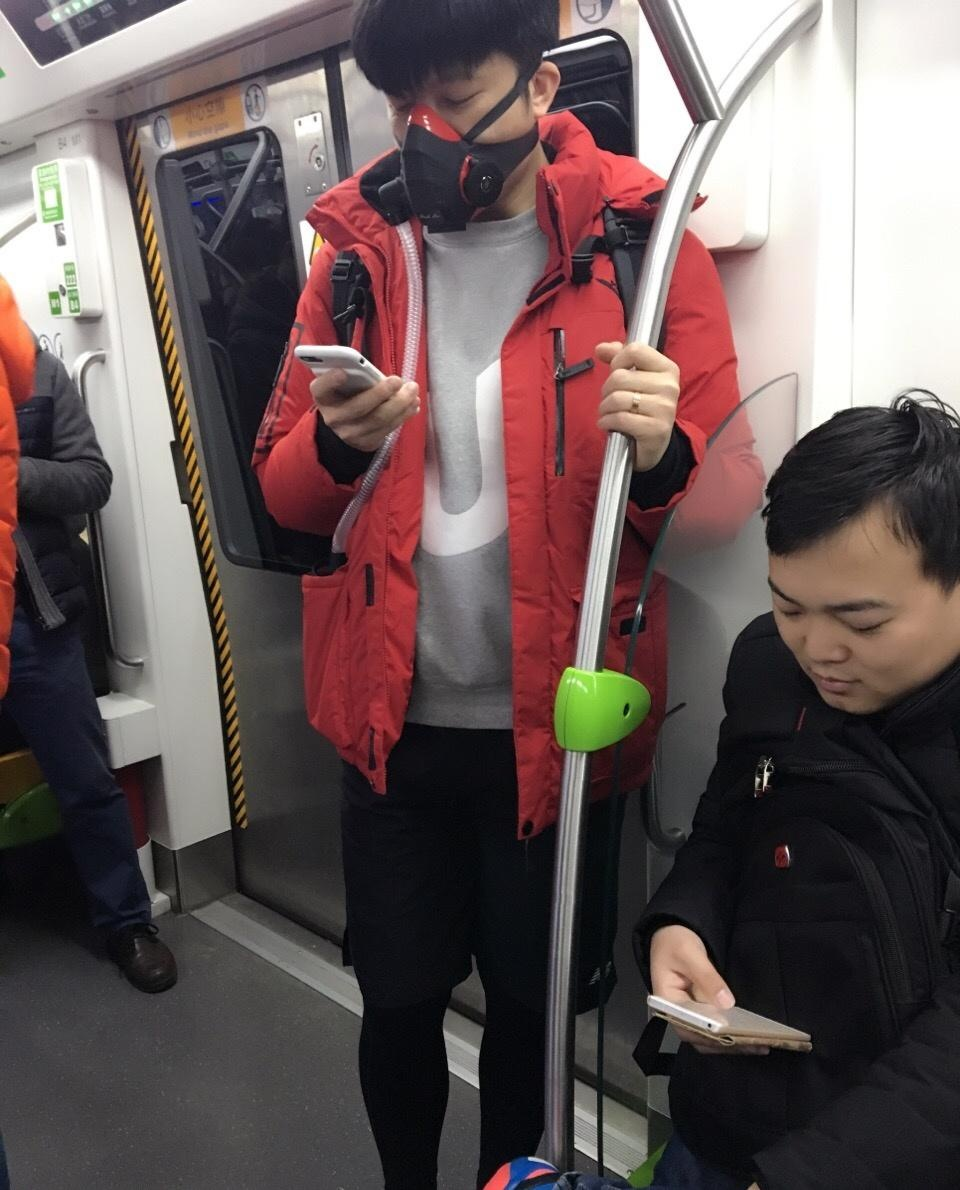Mask: (366, 57, 543, 235)
